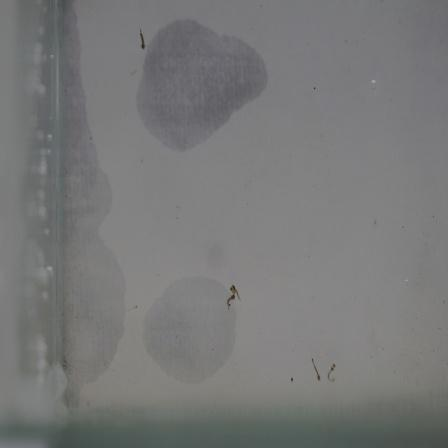Jentik-Nyamuk: (306, 353, 341, 386), (223, 282, 247, 313), (133, 24, 152, 55)
